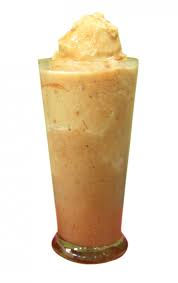jigirthanda: (35, 20, 178, 257)
